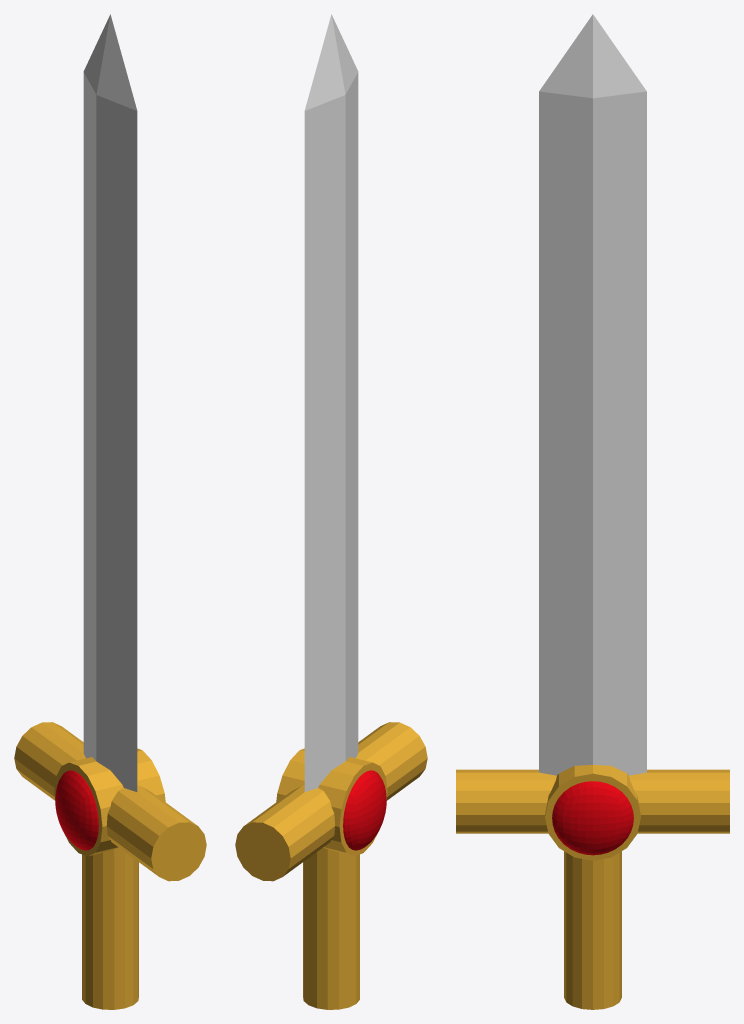
The model's file is SWORD.fbx.
3 renders of one model, left to right at view 1: azimuth 30°, elevation 25°; view 2: azimuth 150°, elevation 25°; view 3: azimuth 270°, elevation 25°, orthographic.
Visible parts, largest first — view 1: Cube, Cylinder.001, Cylinder, Cylinder.002, Roundcube; view 2: Cube, Cylinder.001, Cylinder, Cylinder.002, Roundcube; view 3: Cube, Cylinder.001, Cylinder, Roundcube, Cylinder.002.
Part boxes in pixels (x1,y1,x2,y2): Cube: [83, 14, 137, 791]; Cylinder.001: [14, 722, 206, 881]; Cylinder: [82, 848, 138, 1009]; Cylinder.002: [54, 748, 165, 856]; Roundcube: [55, 770, 98, 850]; Cube: [304, 14, 358, 791]; Cylinder.001: [235, 722, 427, 881]; Cylinder: [303, 848, 359, 1009]; Cylinder.002: [276, 748, 387, 856]; Roundcube: [343, 770, 386, 850]; Cube: [539, 14, 646, 775]; Cylinder.001: [456, 769, 729, 833]; Cylinder: [564, 851, 621, 1009]; Roundcube: [552, 781, 633, 855]; Cylinder.002: [545, 765, 640, 860].
Bounding box in the file's own units: 9.7 × 101 × 25.39.
